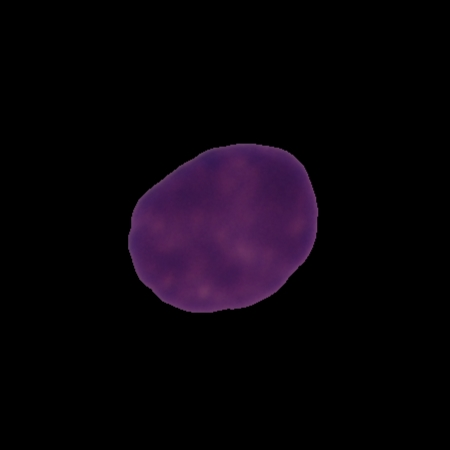HEM: (124, 139, 321, 315)
